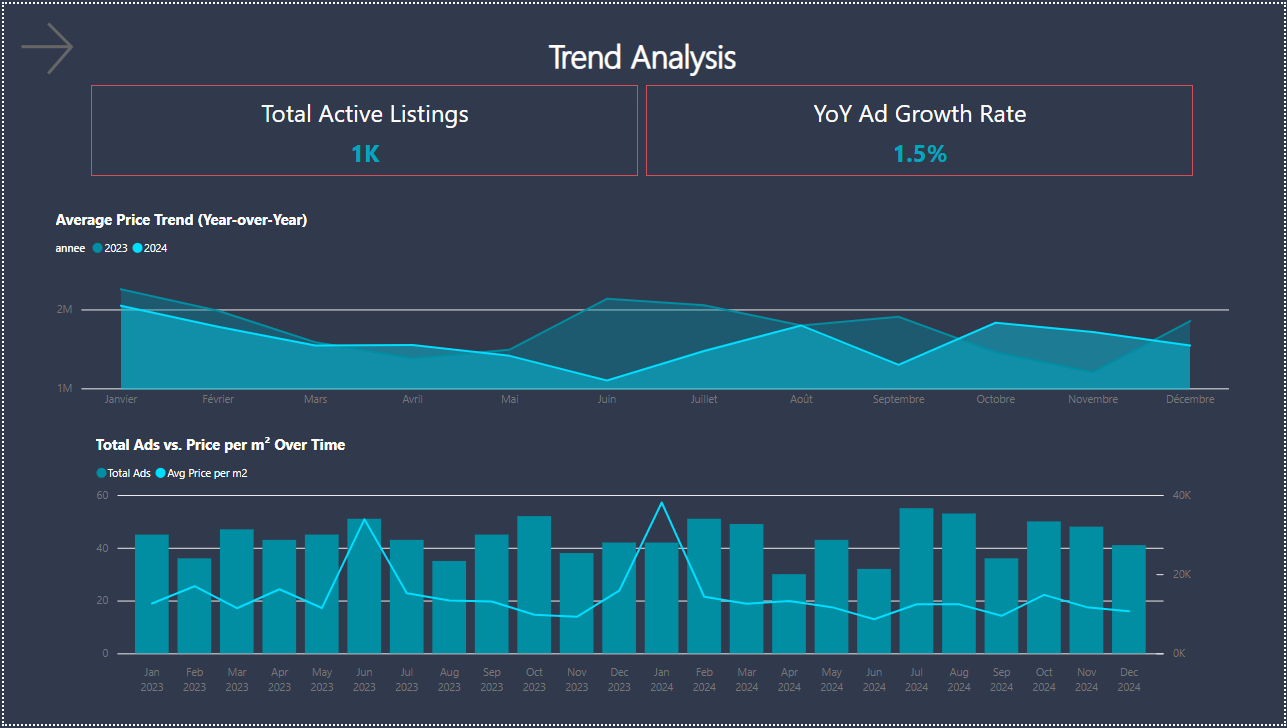

The page's visual inventory and layout, read from the dashboard file:
{"tool":"powerbi","page":{"name":"Trend Analysis","canvas":[1280,720],"ordinal":3},"visuals":[{"type":"lineStackedColumnComboChart","title":"Total Ads vs. Price per m² Over Time","fields":{"Category":["dim_temps.Month_Year"],"Y":["_Measures.Total Ads"],"Y2":["_Measures.Avg Price per m2"]},"box":[87.1,429.8,1104.5,268.4],"z":1000},{"type":"areaChart","title":"Average Price Trend (Year-over-Year)","fields":{"Category":["dim_temps.nom_mois"],"Y":["_Measures.Average Price"],"Series":["dim_temps.annee"]},"box":[47.3,205.3,1183,207.7],"z":2000},{"type":"cardVisual","fields":{"Data":["_Measures.Total Ads","_Measures.Ad Growth Rate YoY"]},"box":[82.1,75.9,1113.3,100.8],"z":3000},{"type":"textbox","box":[522.5,23.6,233.9,63.4],"z":3250},{"type":"actionButton","title":"4 Show Button","box":[9.9,12.5,70.6,65],"z":3500}]}

Visuals, with their boxes in screenshot pixels (x1, y1, x2, y2), scaled from the page's 1280x720 canvas onto the 1287x728 screenshot:
"Total Ads vs. Price per m² Over Time" lineStackedColumnComboChart: (88, 435, 1198, 706)
"Average Price Trend (Year-over-Year)" areaChart: (48, 208, 1237, 418)
cardVisual - _Measures.Total Ads x _Measures.Ad Growth Rate YoY: (83, 77, 1202, 179)
textbox: (525, 24, 761, 88)
"4 Show Button" actionButton: (10, 13, 81, 78)
